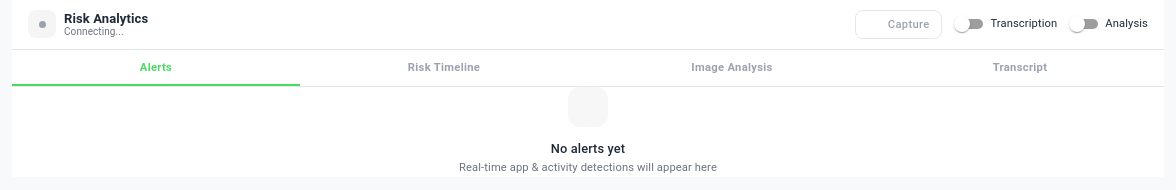
it: AnalyticsPanel › Analysis tab empty + disconnected shows a spinner and Connecting text
The image size is (1176, 190).
Click the tab "Risk Timeline": [444, 68] box [300,50,588,86]
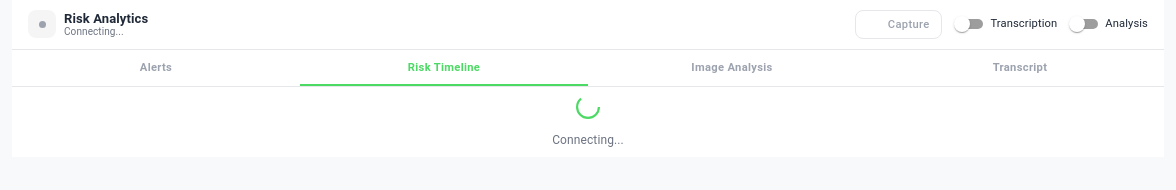
Check: the text "Connecting..." below "Risk Analytics" is shown, box [64,26,124,37]
Check: the progress indicator is shown, box [576,95,600,119]
